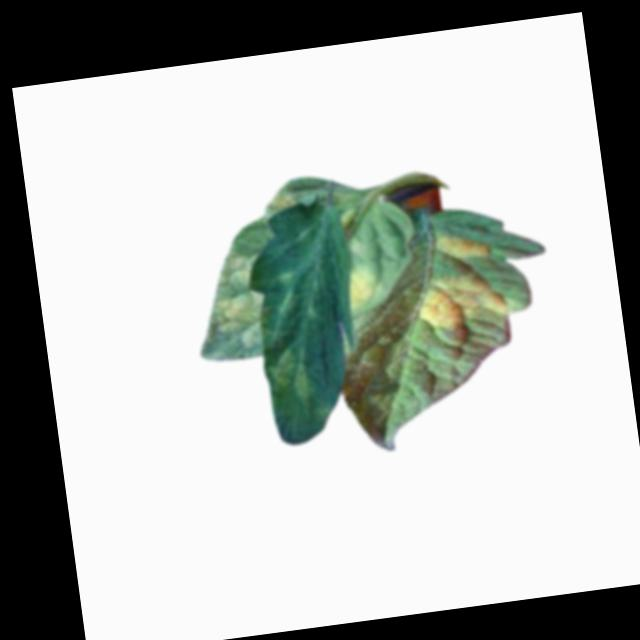Leaf_Mold: (193, 243, 271, 354), (414, 266, 512, 332), (267, 344, 319, 411), (433, 224, 494, 265), (341, 266, 386, 311), (266, 184, 302, 216)
